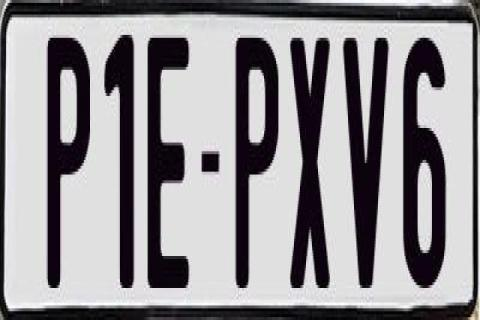0: (404, 29, 446, 291), (104, 35, 142, 299)
E: (146, 38, 190, 291)
P: (47, 38, 93, 306), (234, 35, 278, 299)
V: (342, 35, 394, 299)
X: (290, 38, 332, 291)
